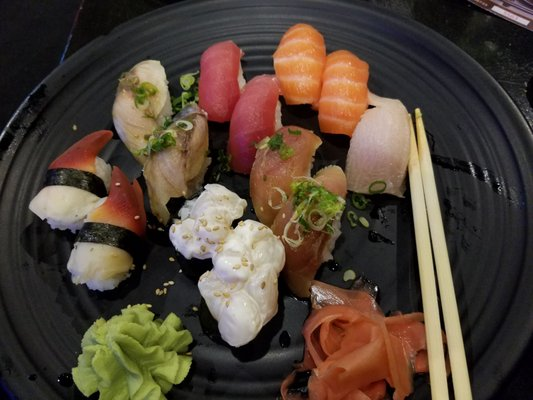sushi: (2, 6, 532, 399)
